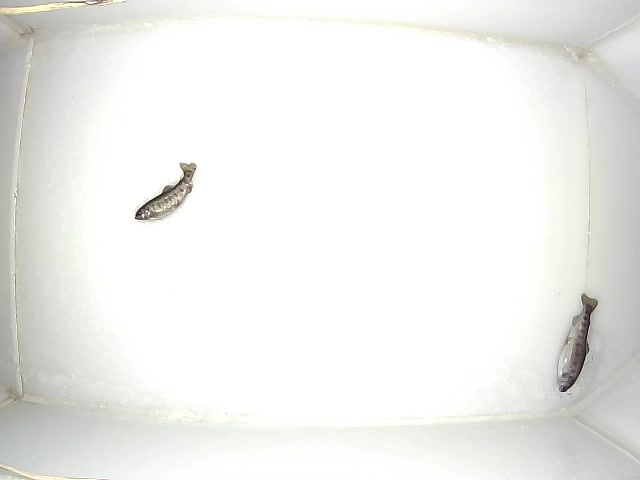fish: (557, 293, 598, 392), (134, 162, 197, 221)
